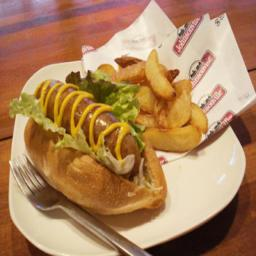hotdog: (18, 76, 168, 213), (79, 43, 215, 154)
